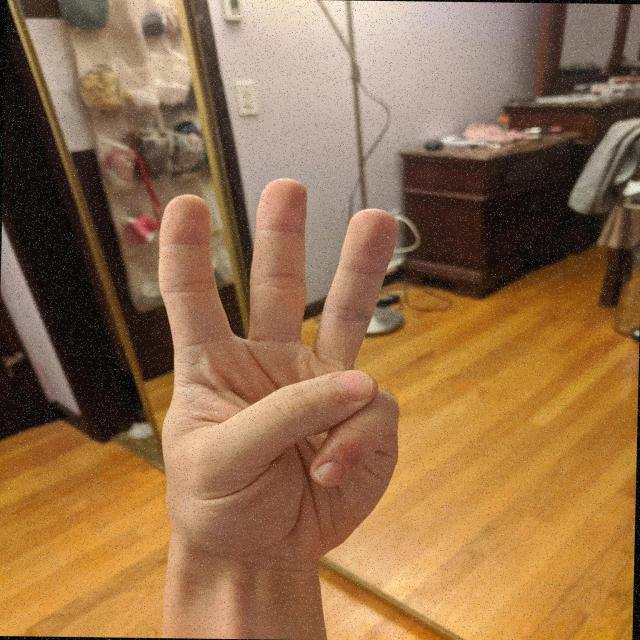W: (143, 172, 414, 571)
